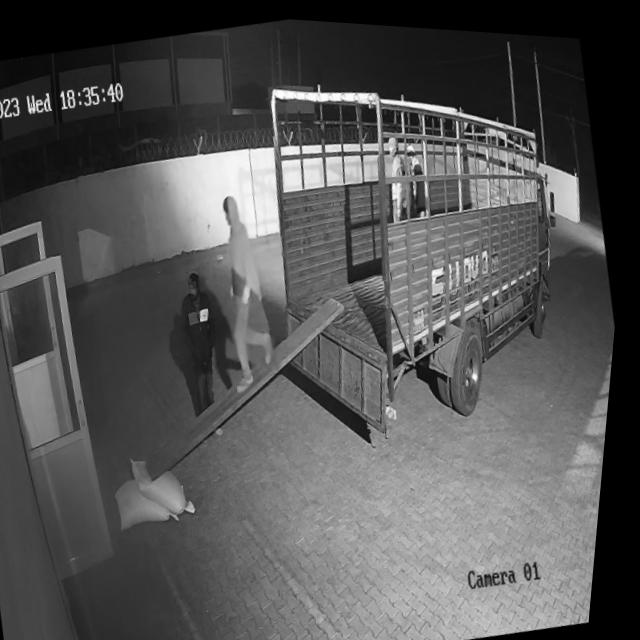sack: (132, 443, 210, 522), (116, 465, 191, 529)
